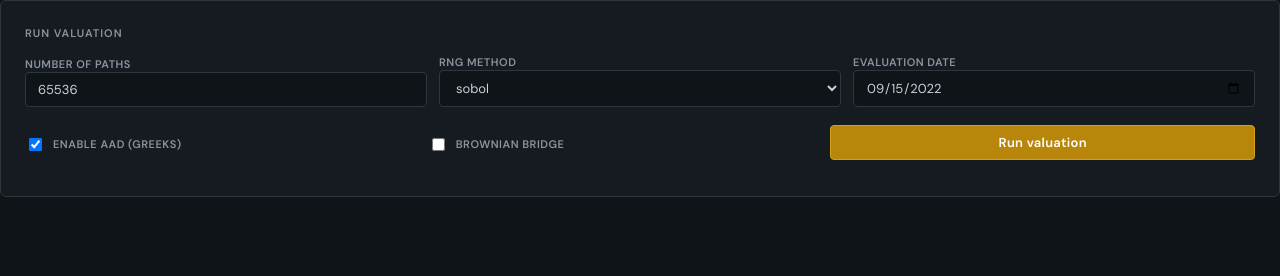
it: ValuationPanel › surfaces a server-side valuation failure without result cards
The image size is (1280, 276).
Click the button "Run valuation".
click(1043, 142)  # box [830,125,1255,160]
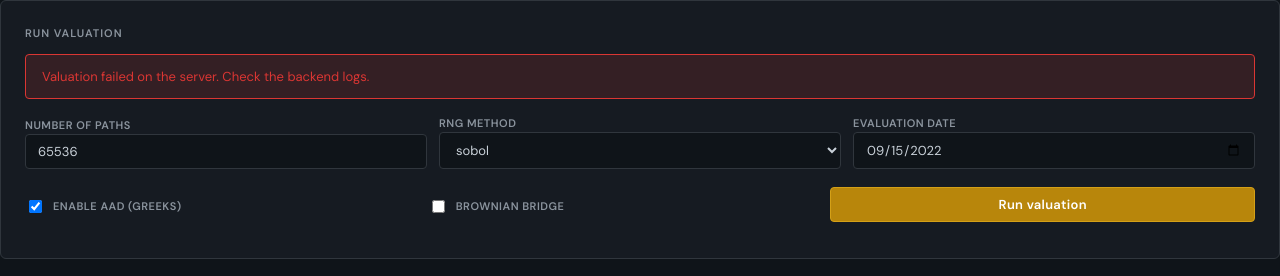
Expected: the button "Run valuation" is enabled, [830,186,1255,222]
Expected: the text "Valuation failed on the server. Check the backend logs." is shown, [25,54,1255,99]
